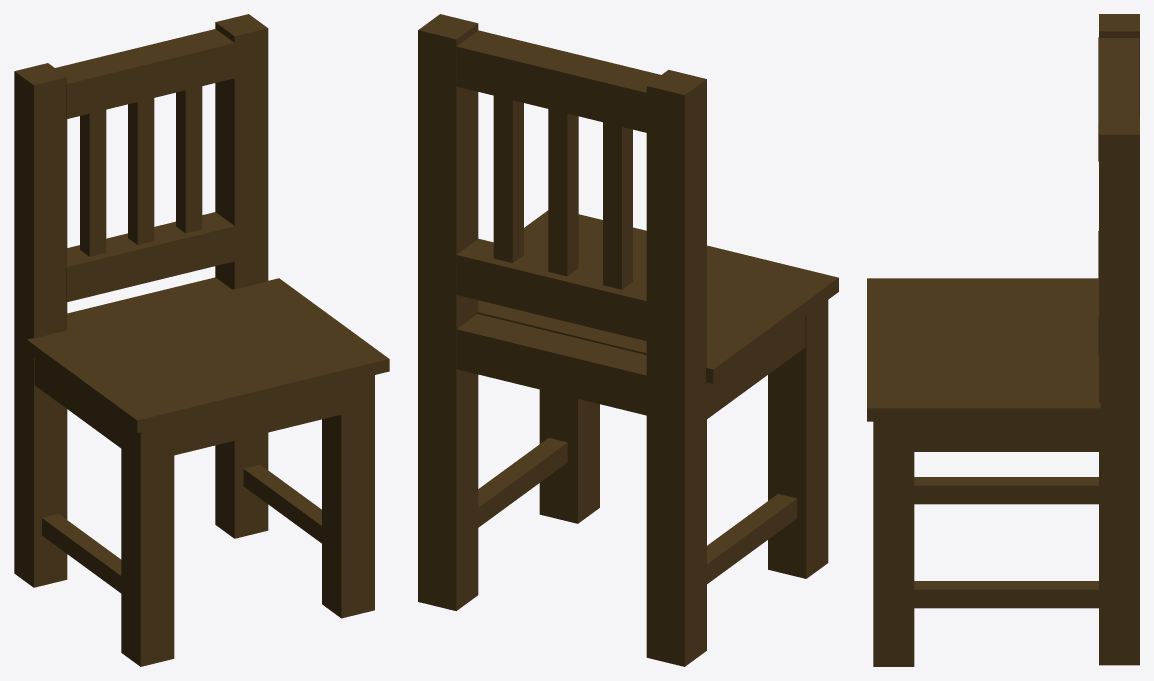
The model's file is Chair.fbx.
The picture shows the model from 3 angles, left to right: view 1: azimuth 30°, elevation 25°; view 2: azimuth 150°, elevation 25°; view 3: azimuth 270°, elevation 25°; orthographic projection. The views are drawn at different scales.
Visible parts, largest first — view 1: Cube.024; view 2: Cube.024; view 3: Cube.024.
Part boxes in pixels (x1,y1,x2,y2): Cube.024: (14,14,389,666); Cube.024: (418,14,838,666); Cube.024: (867,14,1139,666).
Size of the model in its own units: 52.55 by 100 by 46.57.
